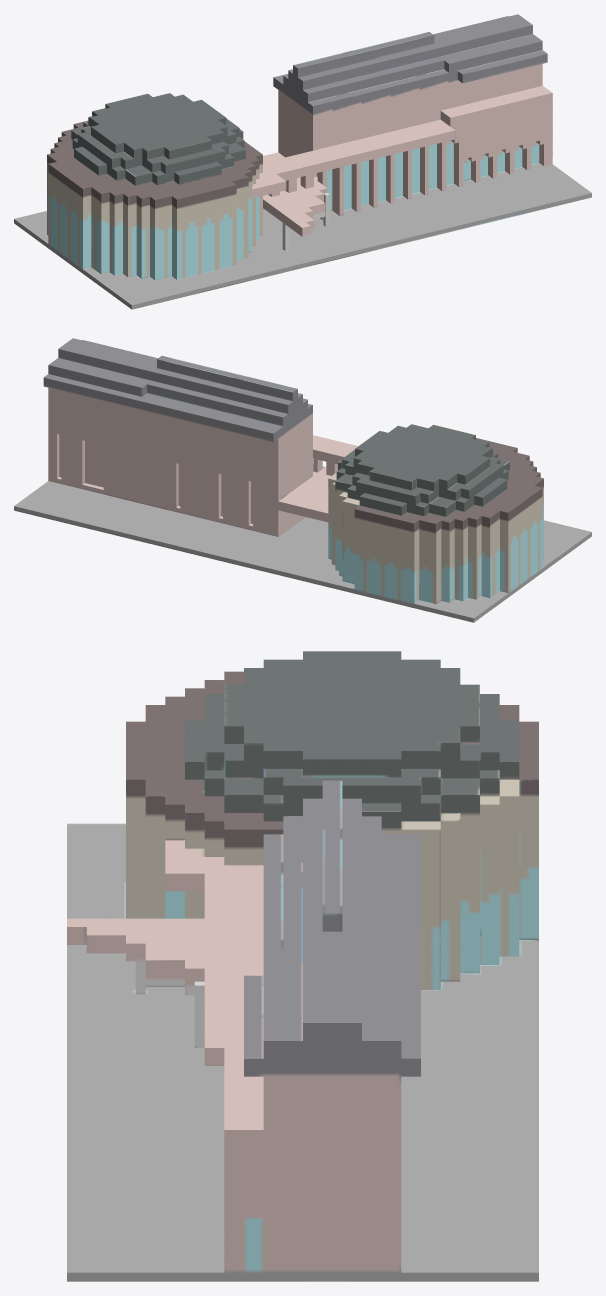
File: kagoshimaarena.glb
3 views of the same model, one above another, from view 1: azimuth 30°, elevation 25°; view 2: azimuth 150°, elevation 25°; view 3: azimuth 270°, elevation 25° (orthographic). The views are drawn at different scales.
Visible parts, largest first — view 1: kagoshimaarena; view 2: kagoshimaarena; view 3: kagoshimaarena.
Boxes of the visible parts, x1=… form: kagoshimaarena: x1=14, y1=14, x2=591, y2=309; kagoshimaarena: x1=14, y1=338, x2=591, y2=622; kagoshimaarena: x1=67, y1=651, x2=538, y2=1281.
Size of the model in its own units: 2.16 by 0.62 by 0.96.
Materials: 1 (1 with a texture image).
